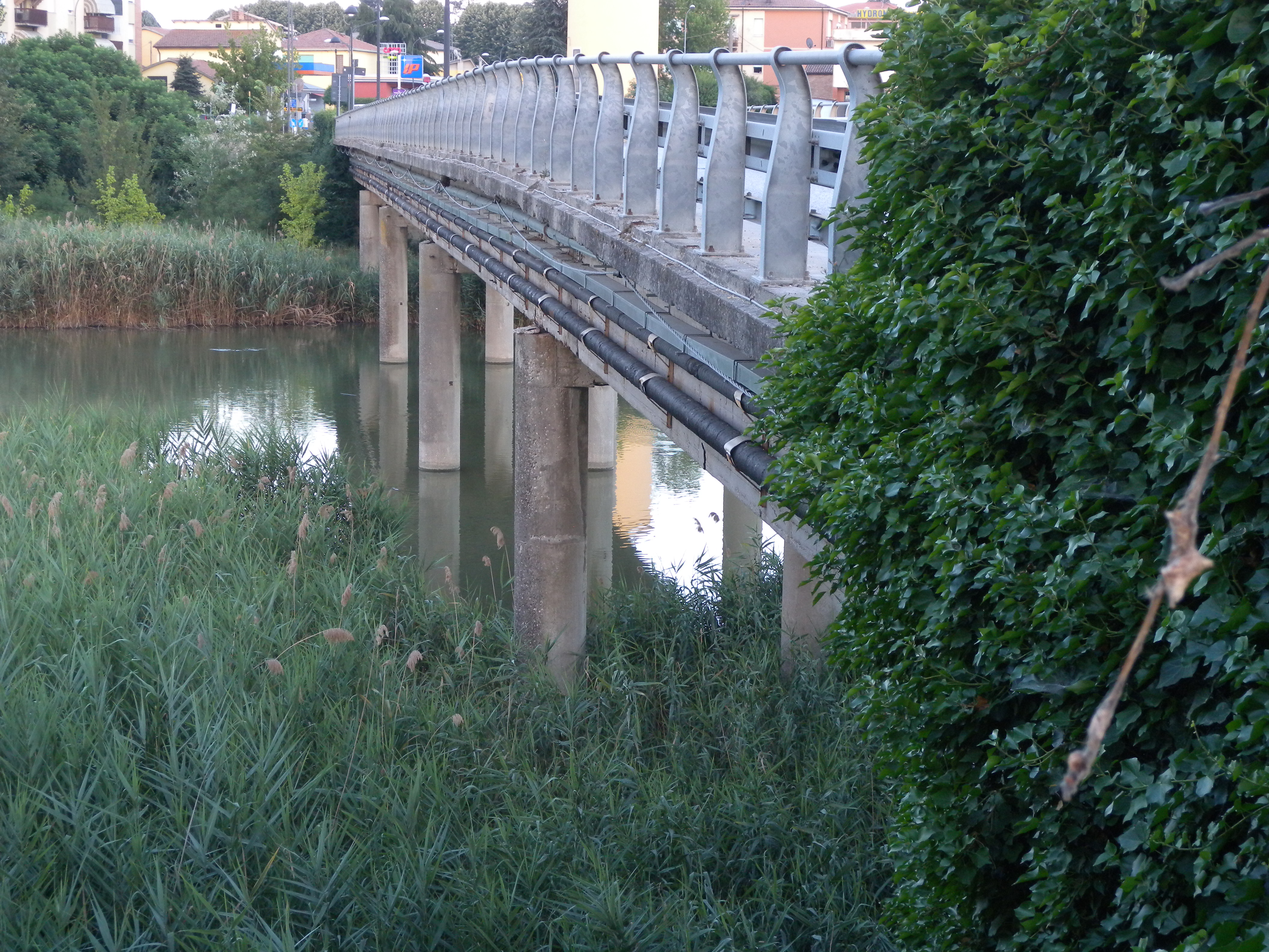Spalling: (584, 378, 611, 391), (446, 261, 464, 276)
